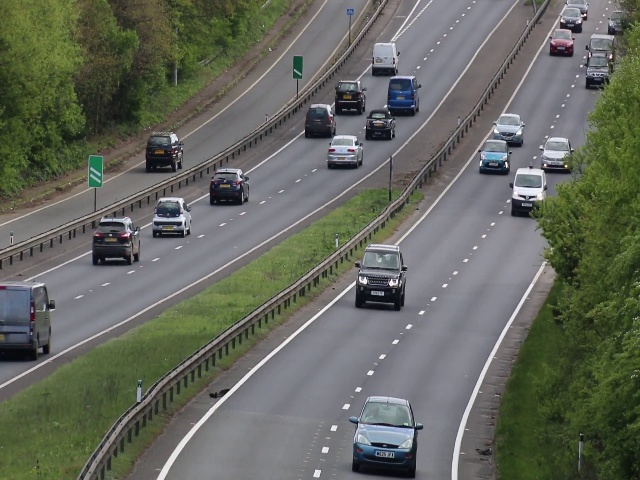car: (352, 392, 420, 477), (1, 282, 57, 358), (353, 241, 408, 311), (92, 217, 141, 266), (142, 132, 184, 174), (151, 197, 192, 240), (208, 167, 251, 206), (513, 168, 541, 218), (386, 77, 420, 116), (303, 100, 337, 139), (326, 133, 363, 168), (332, 77, 366, 115), (480, 135, 510, 177), (368, 41, 402, 77), (494, 110, 523, 146), (541, 137, 570, 172), (585, 52, 610, 89), (365, 109, 395, 139), (549, 27, 575, 55), (559, 6, 584, 31)
